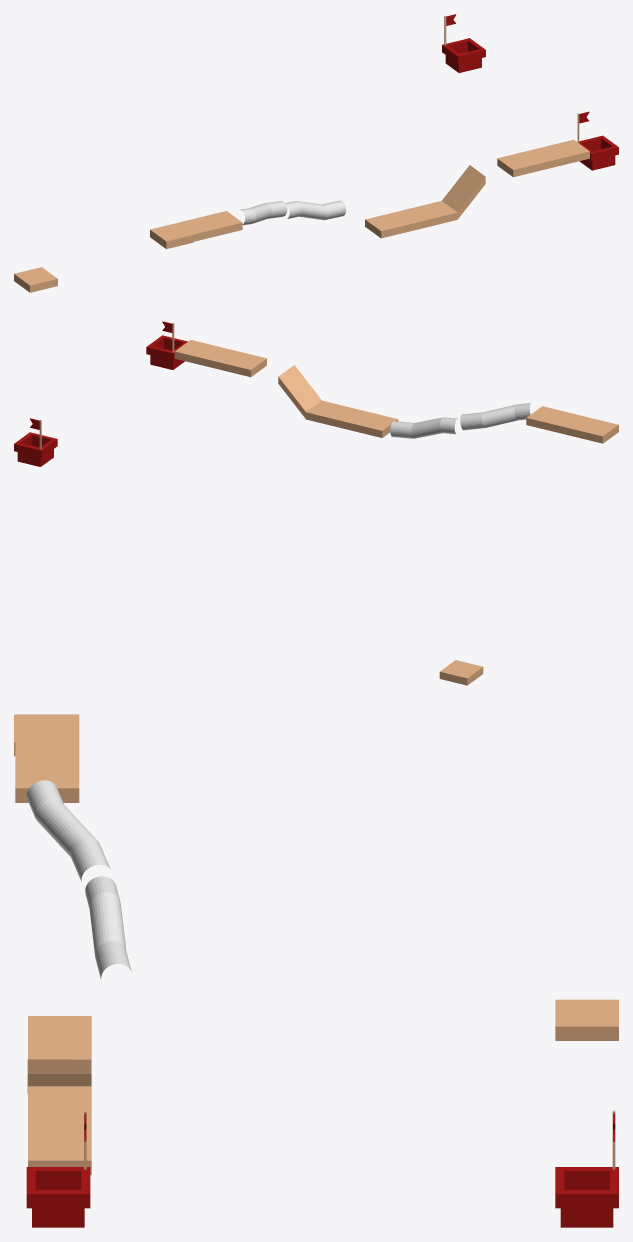
Rendered from TRACKL_V1.glb.
3 views of the same model, one above another, from view 1: azimuth 30°, elevation 25°; view 2: azimuth 150°, elevation 25°; view 3: azimuth 270°, elevation 25° (orthographic). The views are drawn at different scales.
Visible parts, largest first — view 1: floor.008, floor.006, floor.004, target.001, floor-ramp.001, target-colonly.001, Cylinder.001, floor.001, Cylinder; view 2: floor.008, floor.006, floor.004, target.001, Cylinder, floor-ramp.001, Cylinder.001, target-colonly.001, floor.001; view 3: floor.004, floor.008, target.001, target-colonly.001, Cylinder, Cylinder.001, floor.006, floor.001, floor-ramp.001.
Part boxes in pixels (box(x1,y1,x2,y2)): floor.008: box(497, 139, 589, 177); floor.006: box(365, 201, 457, 238); floor.004: box(150, 211, 242, 247); target.001: box(442, 14, 485, 72); floor-ramp.001: box(442, 165, 485, 219); target-colonly.001: box(577, 111, 618, 170); Cylinder.001: box(285, 200, 346, 220); floor.001: box(14, 267, 57, 292); Cylinder: box(240, 201, 287, 225); floor.008: box(174, 340, 266, 377); floor.006: box(306, 400, 398, 437); floor.004: box(526, 406, 618, 443); target.001: box(14, 418, 57, 466); Cylinder: box(460, 403, 530, 430); floor-ramp.001: box(278, 365, 321, 418); Cylinder.001: box(390, 417, 457, 438); target-colonly.001: box(146, 321, 187, 369); floor.001: box(439, 660, 483, 685); floor.004: box(15, 714, 79, 802); floor.008: box(28, 1086, 91, 1175); target.001: box(555, 1110, 618, 1227); target-colonly.001: box(26, 1110, 90, 1227); Cylinder: box(26, 780, 110, 882); Cylinder.001: box(85, 876, 131, 980); floor.006: box(28, 1016, 91, 1073); floor.001: box(555, 999, 618, 1040); floor-ramp.001: box(27, 1059, 91, 1093).
Size of what is drawn, in the model's own units: 65.54 by 22.11 by 37.95.
Materials: 8 (8 with a texture image).
